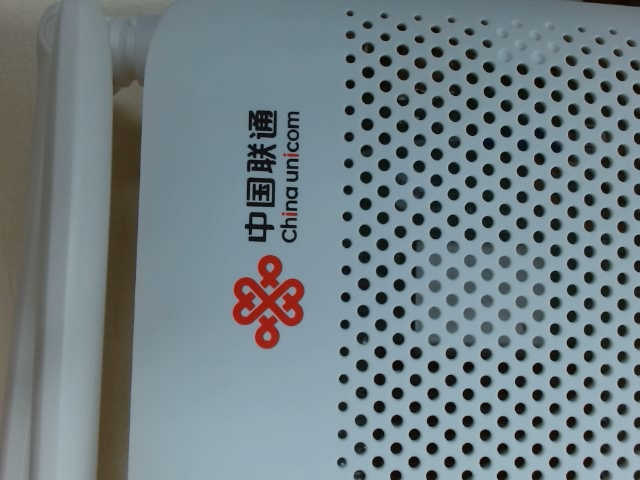AD_ChinaUnicom: (195, 84, 327, 354)
